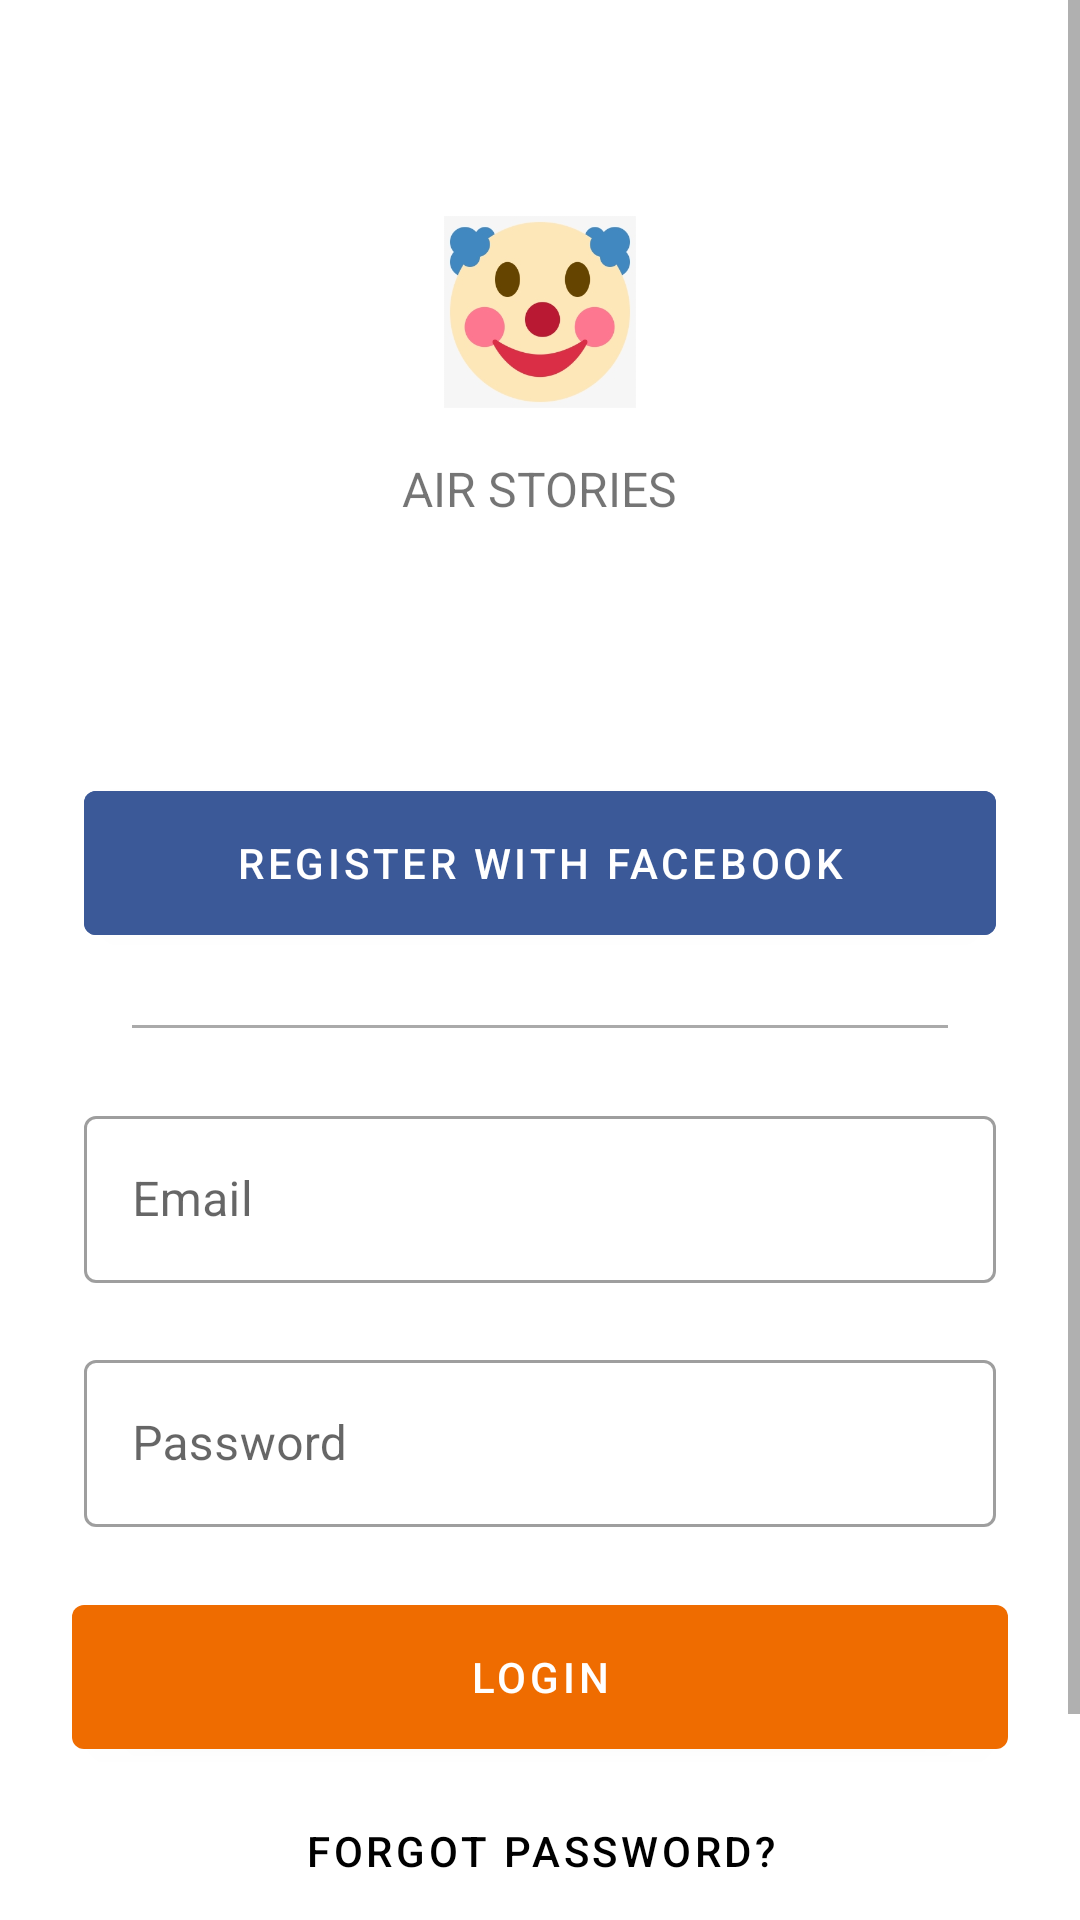

Screen size 1080×1920. Icon name, then its center in pixels as (x,y):
clown: (540,312)
